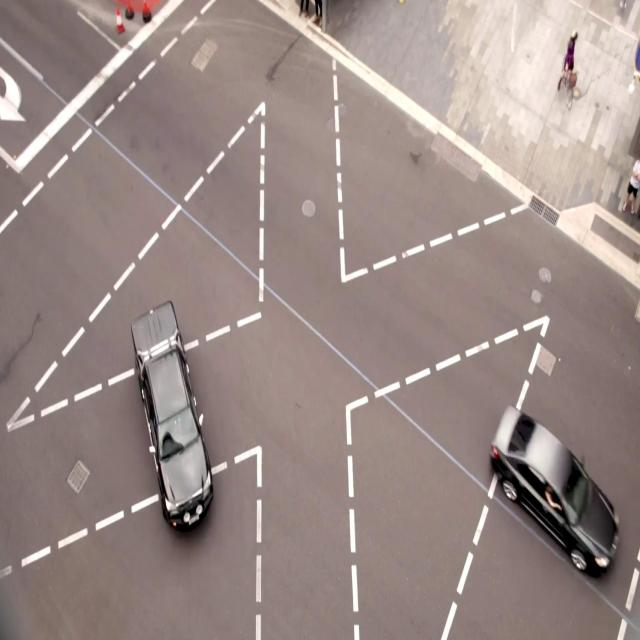p3rson: (556, 28, 578, 89), (620, 156, 640, 216), (312, 0, 324, 30)
